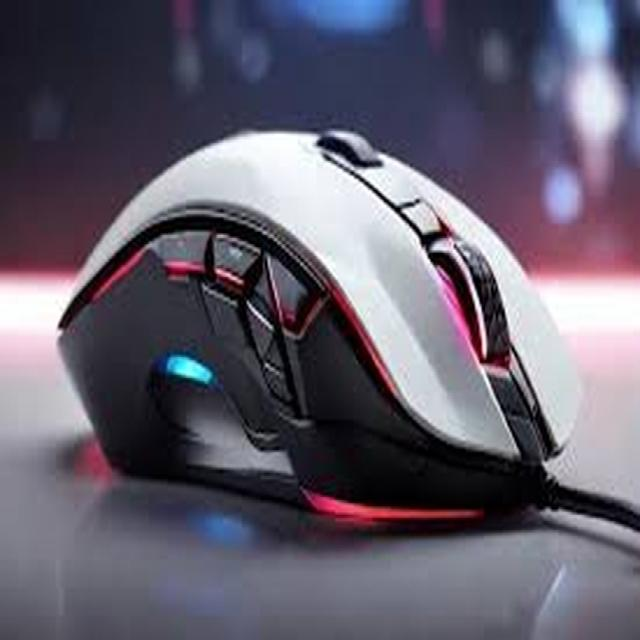mouse: (32, 86, 616, 556)
